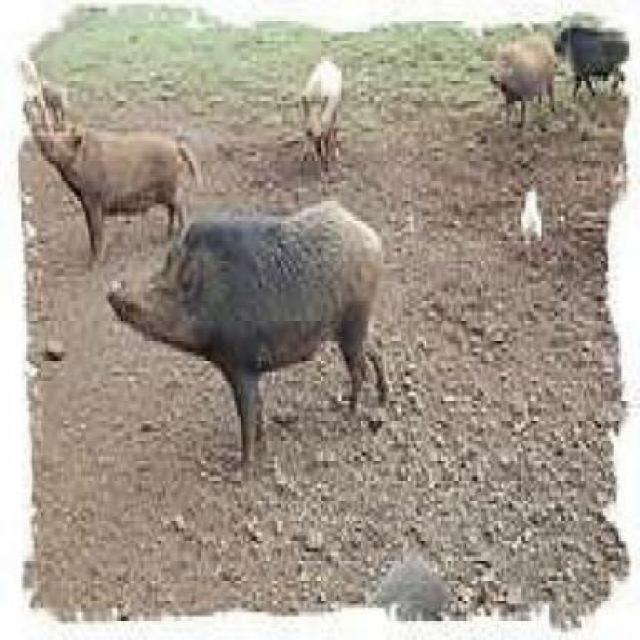Boar: (90, 185, 372, 489)
